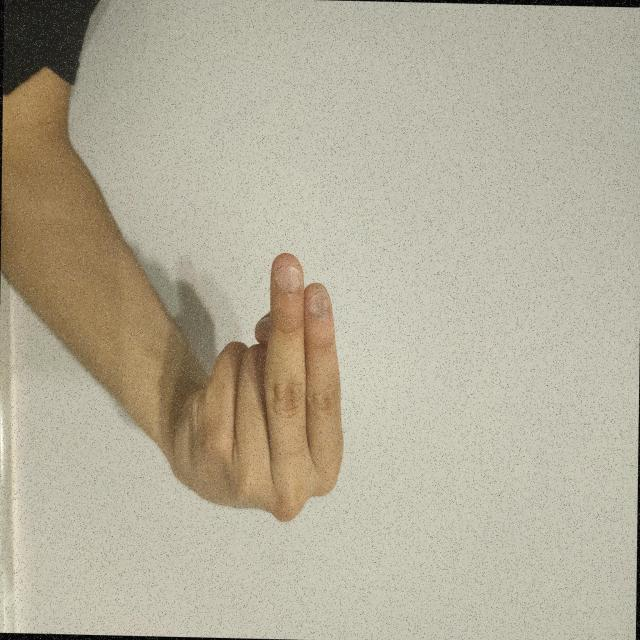H: (334, 383, 558, 640)
